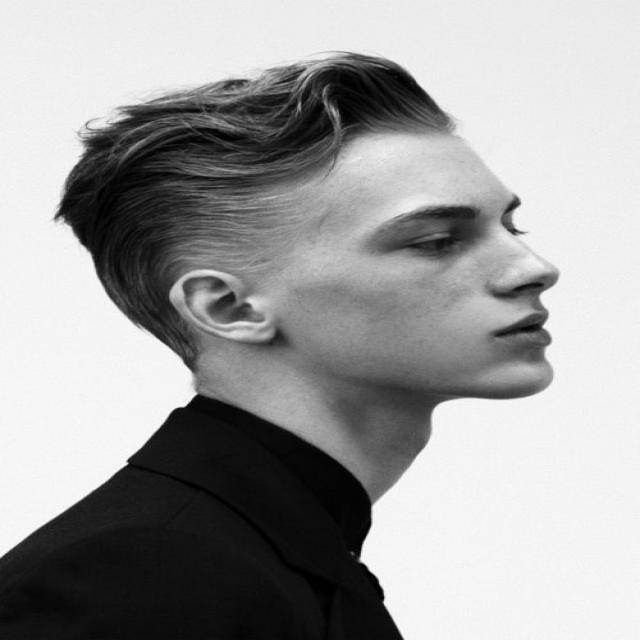front: (323, 182, 576, 390)
